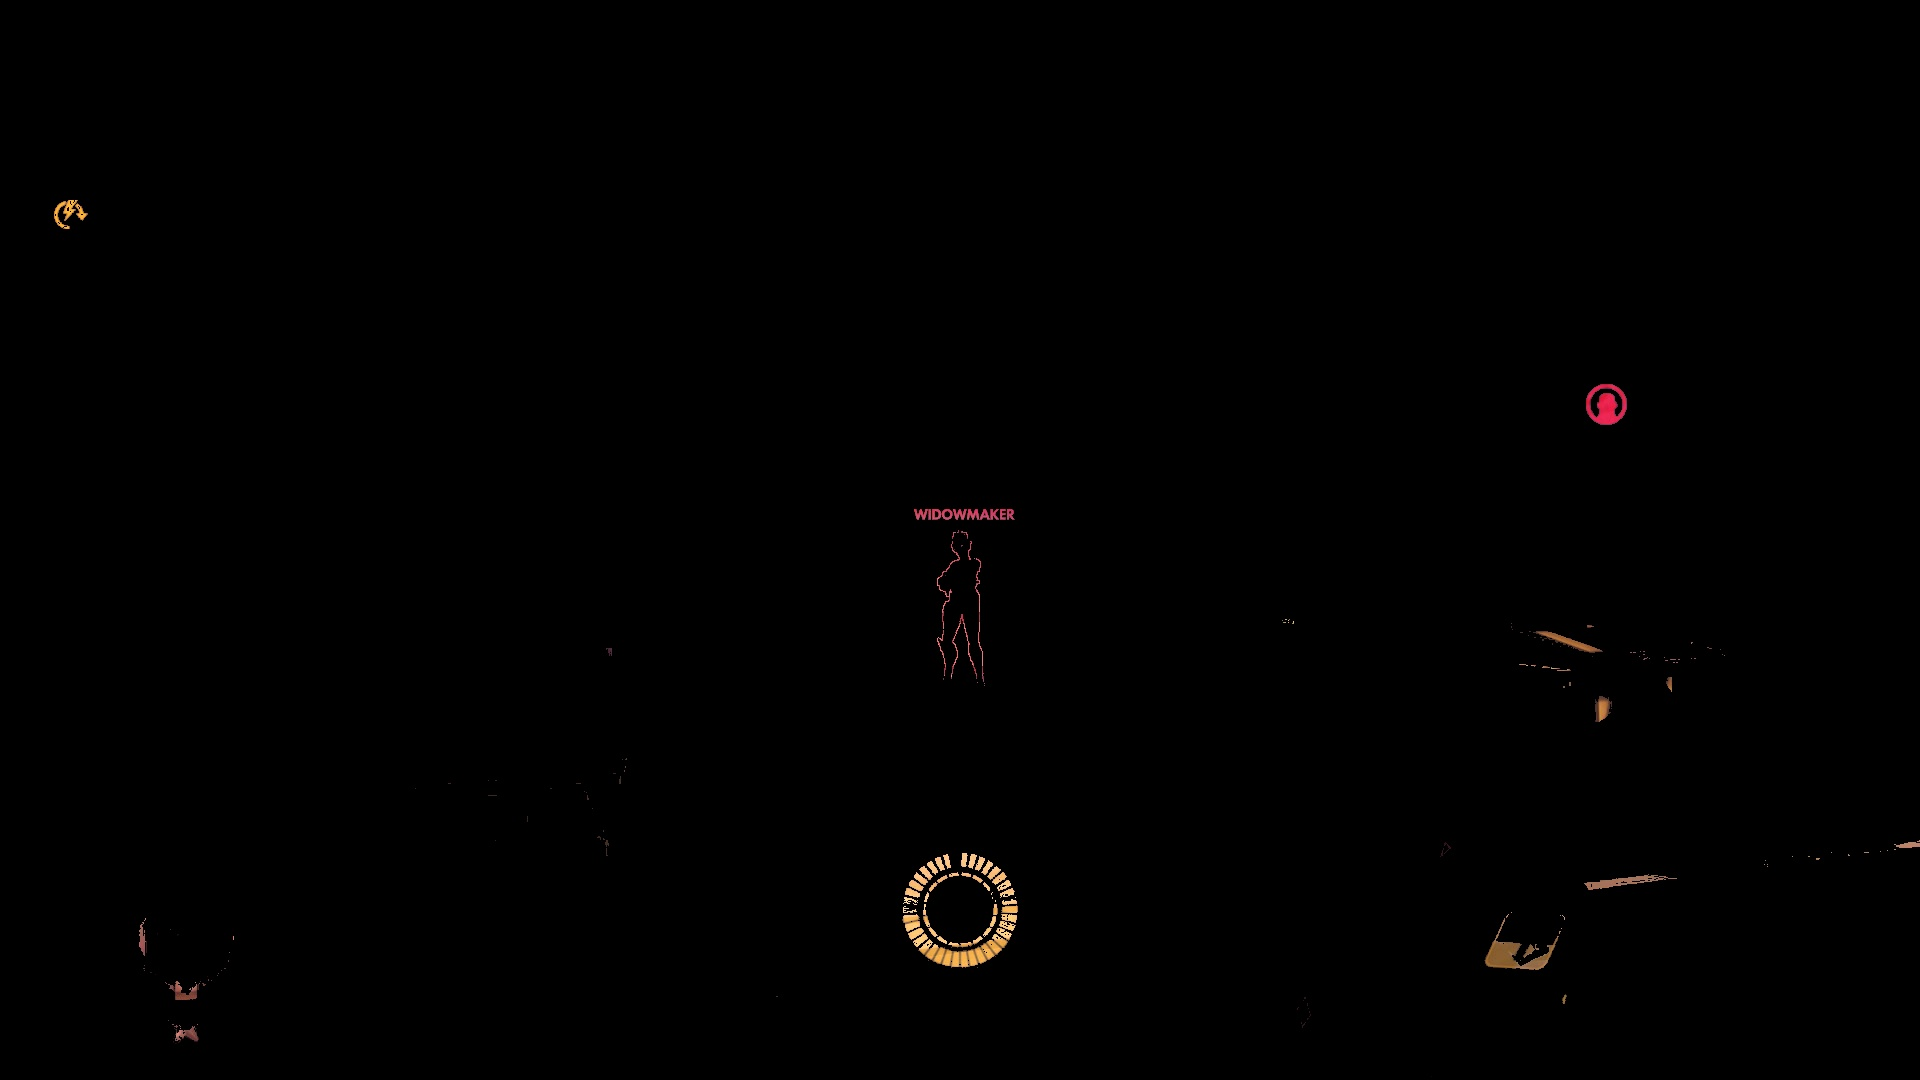widowmaker: (938, 531, 992, 700)
